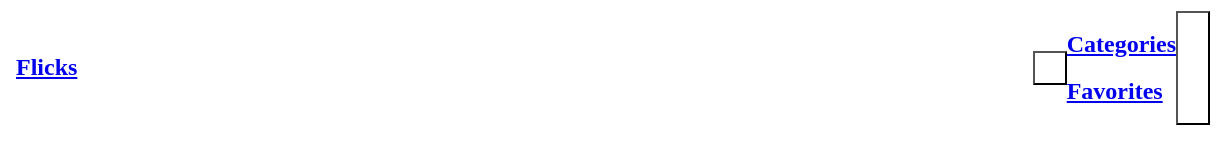
Test case: display search field after click
What coordinates should you click on to do the following:
click the button named "Search"
I would click on:
 (1050, 68)
Its box is [1033, 51, 1067, 85].
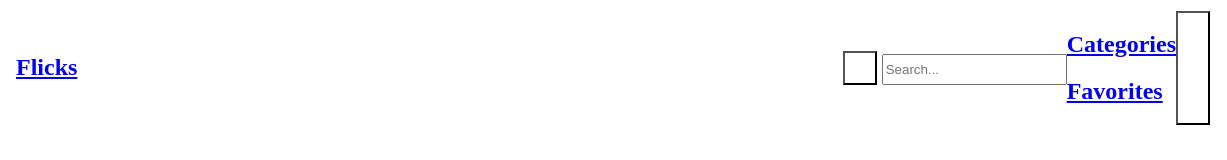
Expected: the field with placeholder "Search..." is shown, [882, 54, 1067, 85]
